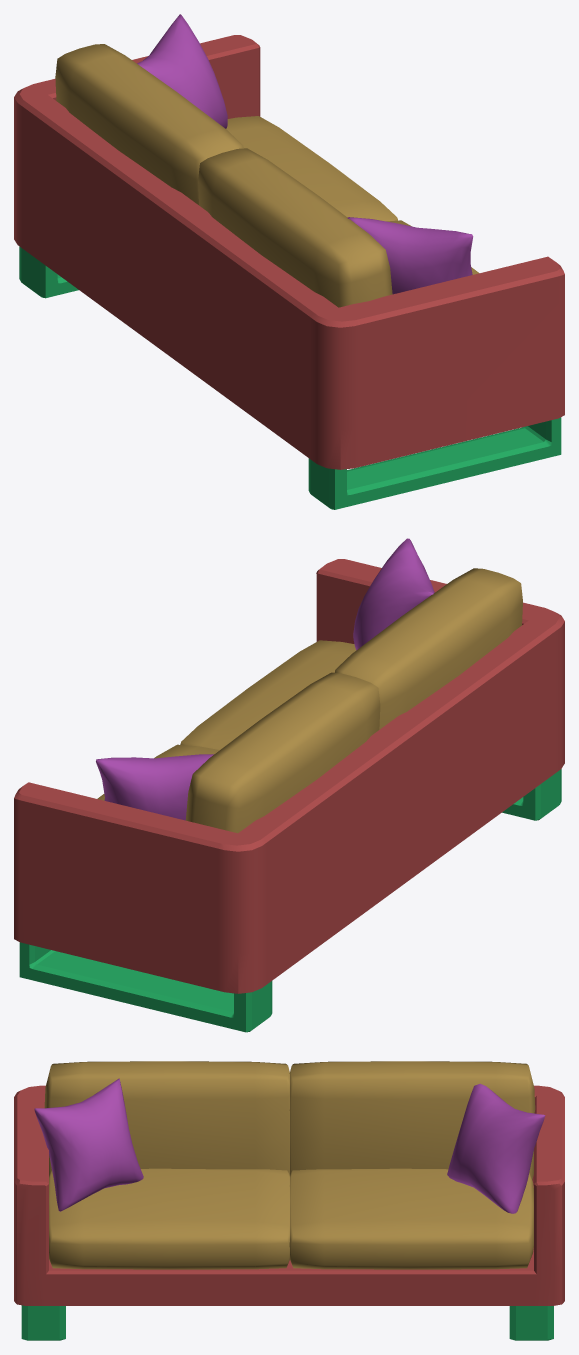
The model's file is Basic Couch.fbx.
3 views of the same model, one above another, from view 1: azimuth 30°, elevation 25°; view 2: azimuth 150°, elevation 25°; view 3: azimuth 270°, elevation 25° (orthographic). The views are drawn at different scales.
Parts seen in each view (by area): view 1: Base, back_pillow_1, back_pillow_2, stand_1, seat_pillow_2, dec_pillow_2, decorative_pillow, stand_2; view 2: Base, back_pillow_2, back_pillow_1, stand_2, seat_pillow_1, decorative_pillow, dec_pillow_2, stand_1; view 3: Base, seat_pillow_2, seat_pillow_1, back_pillow_2, back_pillow_1, dec_pillow_2, decorative_pillow, stand_1, stand_2.
Part boxes in pixels (left/top/right/bottom): Base: left=14, top=35, right=564, bottom=469; back_pillow_1: left=198, top=148, right=392, bottom=307; back_pillow_2: left=55, top=44, right=243, bottom=204; stand_1: left=308, top=417, right=561, bottom=509; seat_pillow_2: left=226, top=116, right=397, bottom=221; dec_pillow_2: left=347, top=217, right=473, bottom=294; decorative_pillow: left=137, top=14, right=227, bottom=128; stand_2: left=19, top=246, right=78, bottom=298; Base: left=14, top=559, right=564, bottom=993; back_pillow_2: left=185, top=672, right=380, bottom=833; back_pillow_1: left=334, top=568, right=522, bottom=729; stand_2: left=19, top=942, right=272, bottom=1032; seat_pillow_1: left=180, top=640, right=356, bottom=749; decorative_pillow: left=96, top=754, right=213, bottom=820; dec_pillow_2: left=353, top=538, right=434, bottom=650; stand_1: left=502, top=769, right=561, bottom=820; Base: left=14, top=1085, right=564, bottom=1305; seat_pillow_2: left=289, top=1168, right=533, bottom=1269; seat_pillow_1: left=49, top=1168, right=289, bottom=1269; back_pillow_2: left=289, top=1061, right=535, bottom=1179; back_pillow_1: left=44, top=1061, right=289, bottom=1175; dec_pillow_2: left=34, top=1078, right=143, bottom=1211; decorative_pillow: left=447, top=1083, right=545, bottom=1213; stand_1: left=21, top=1305, right=65, bottom=1340; stand_2: left=509, top=1306, right=553, bottom=1340.
Bounding box in the file's own units: 1.08 × 1.02 × 2.54.
